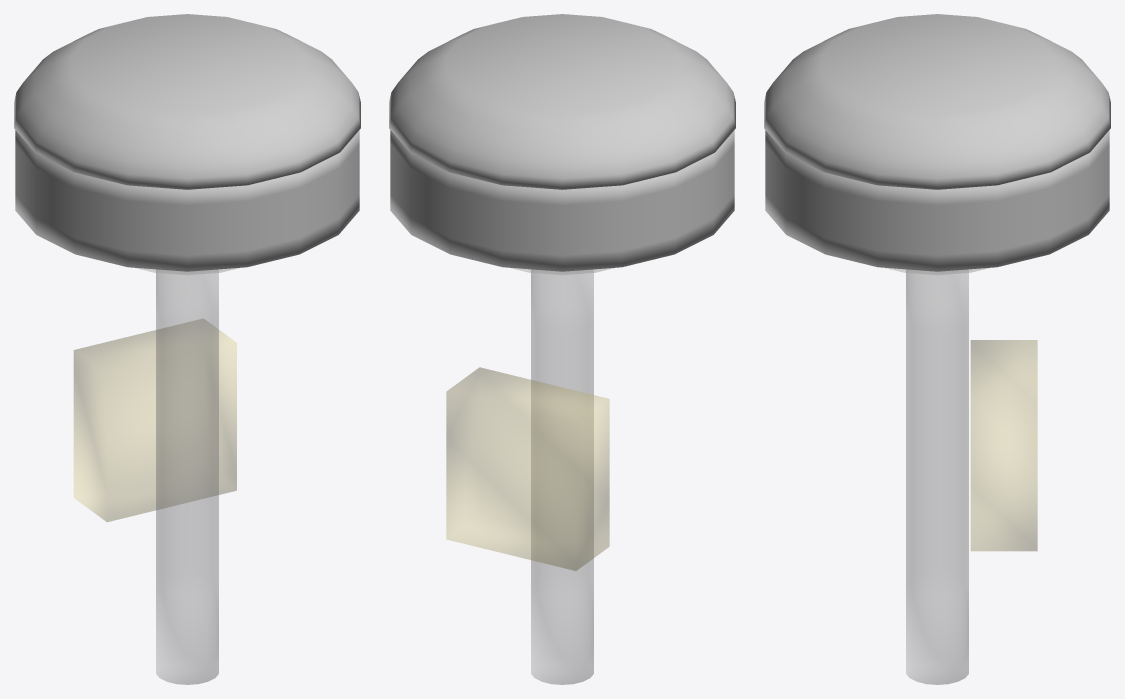
The model's file is GNSS接收机.glb.
3 renders of one model, left to right at view 1: azimuth 30°, elevation 25°; view 2: azimuth 150°, elevation 25°; view 3: azimuth 270°, elevation 25°, orthographic.
Parts seen in each view (by area): view 1: GNSS接收机1; view 2: GNSS接收机1; view 3: GNSS接收机1.
Boxes of the visible parts, box(x1,y1,x2,y2) form: GNSS接收机1: box(14, 14, 360, 684); GNSS接收机1: box(389, 14, 735, 684); GNSS接收机1: box(764, 14, 1110, 684).
Bounding box in the file's own units: 36.26 × 69.07 × 35.71.
